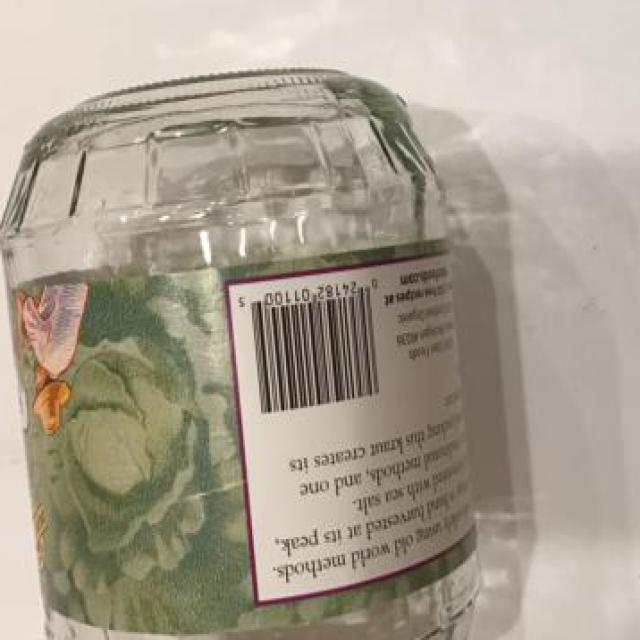organic: (0, 68, 490, 629)
